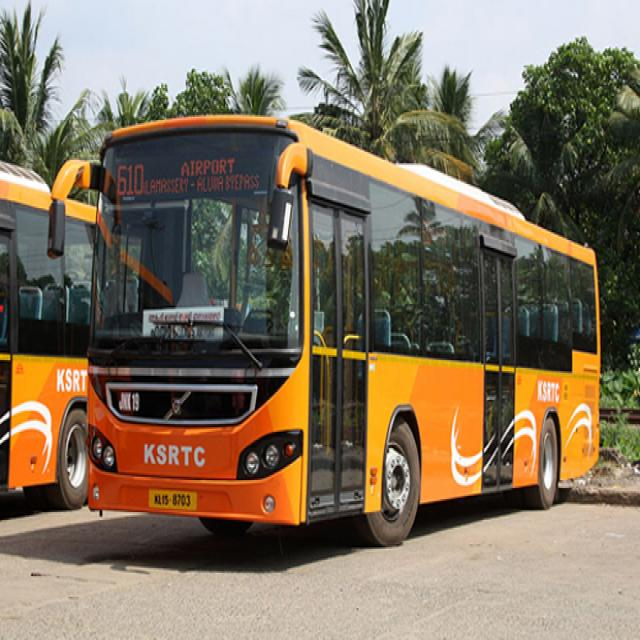BUS: (53, 115, 614, 549)
